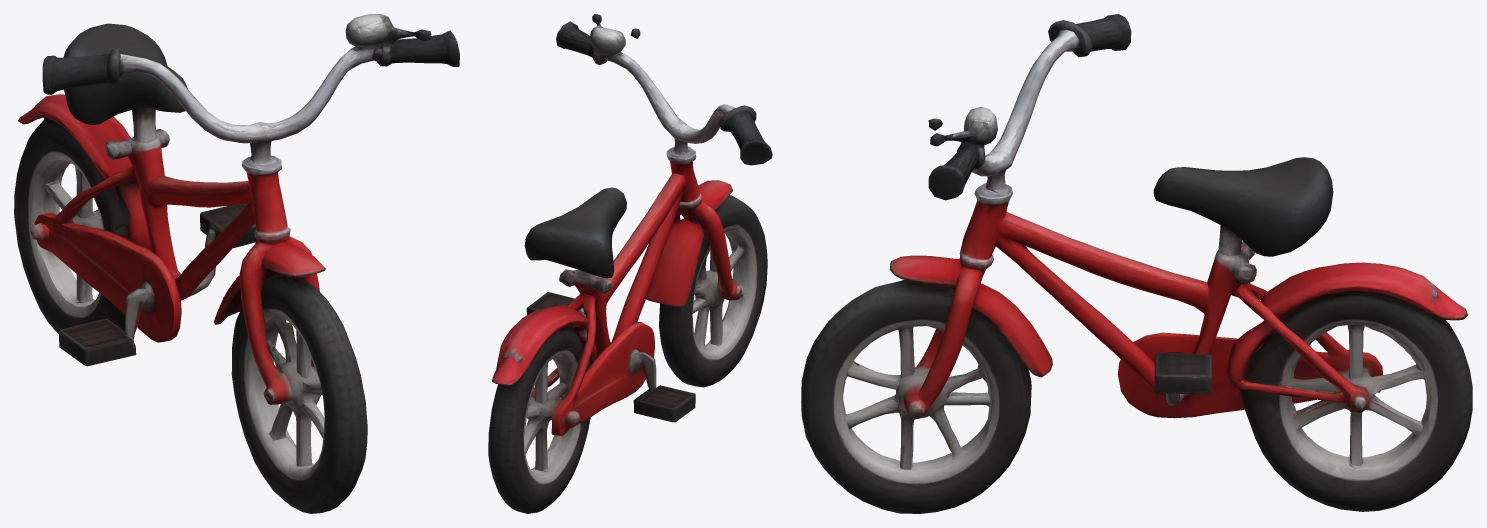
Rendered from bicycle.glb.
3 renders of one model, left to right at view 1: azimuth 30°, elevation 25°; view 2: azimuth 150°, elevation 25°; view 3: azimuth 270°, elevation 25°, orthographic. The views are drawn at different scales.
Visible parts, largest first — view 1: geometry_0; view 2: geometry_0; view 3: geometry_0.
Part boxes in pixels (left/top/right/bottom): geometry_0: left=14, top=14, right=459, bottom=513; geometry_0: left=488, top=14, right=772, bottom=513; geometry_0: left=801, top=14, right=1472, bottom=513.
Size of the model in its own units: 0.6564 by 0.8118 by 1.1.
Materials: 1 (1 with a texture image).
